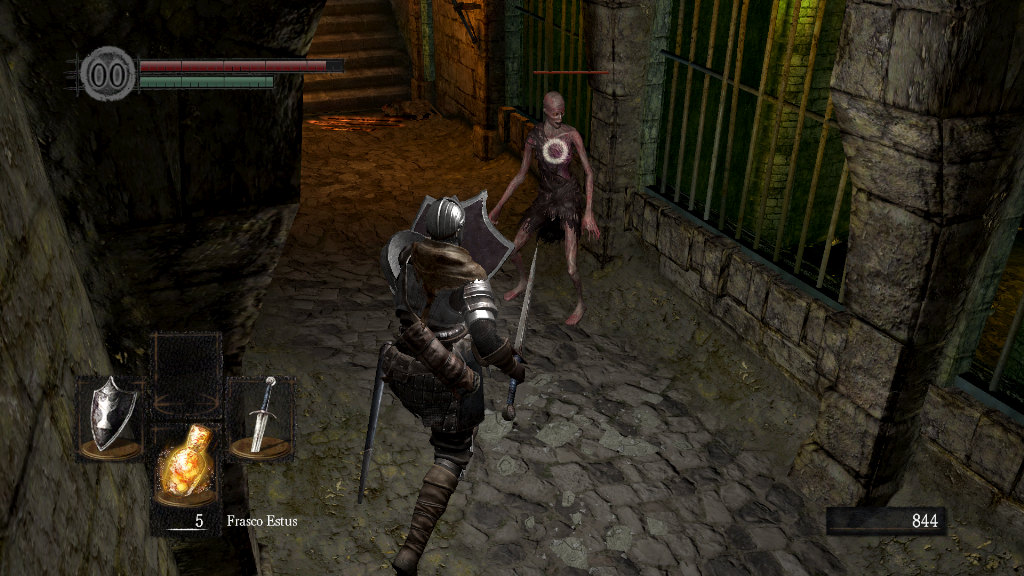health: (138, 58, 343, 71)
hollow: (490, 91, 605, 326)
humanity: (80, 45, 136, 102)
player: (356, 189, 539, 576)
souls: (825, 506, 945, 536)
stamina: (138, 74, 274, 88)
